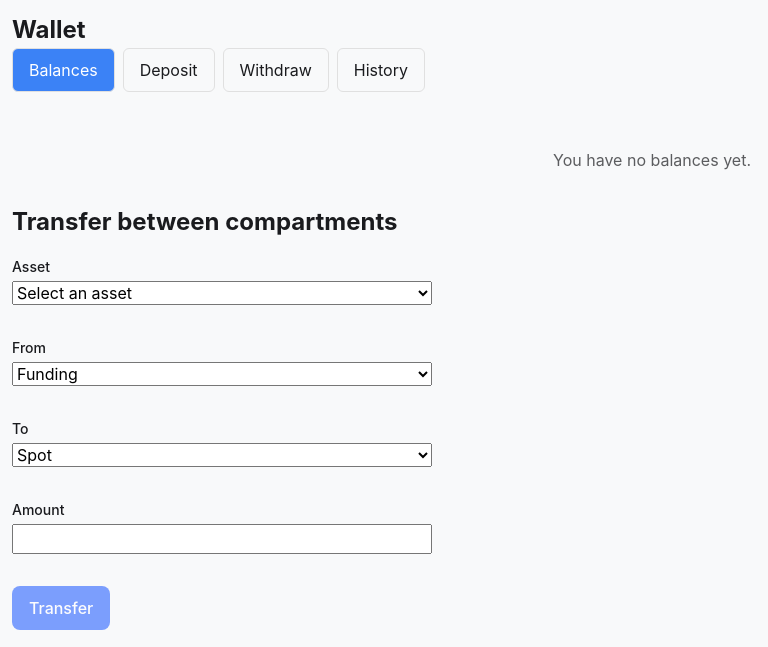
Scenario: WalletTabs › shows balances by default and switches to withdraw
expect the text "You have no balances yet." is shown: met, box left=553, top=150, right=751, bottom=170
Click the tab "Withdraw": (276, 70) left=222, top=48, right=329, bottom=92
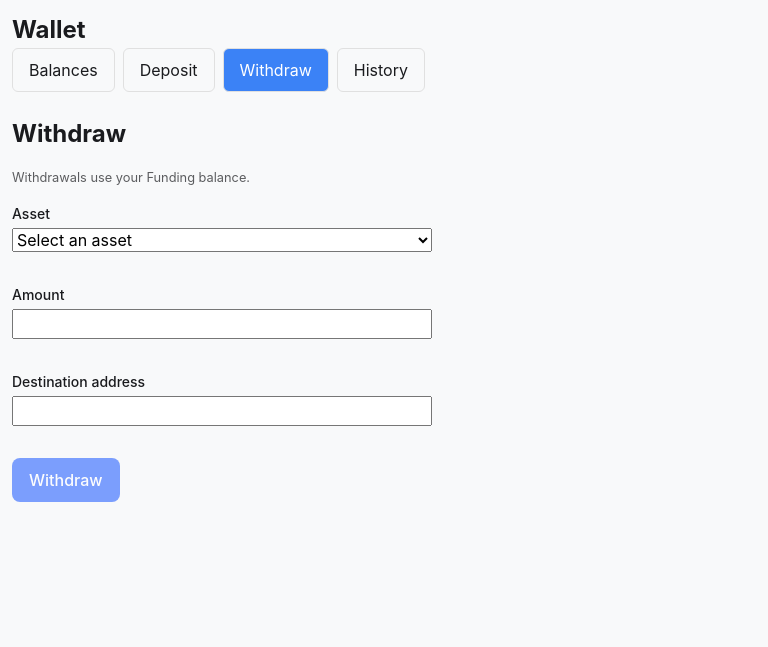
expect the heading "Withdraw" is shown: met, box left=12, top=119, right=126, bottom=148
